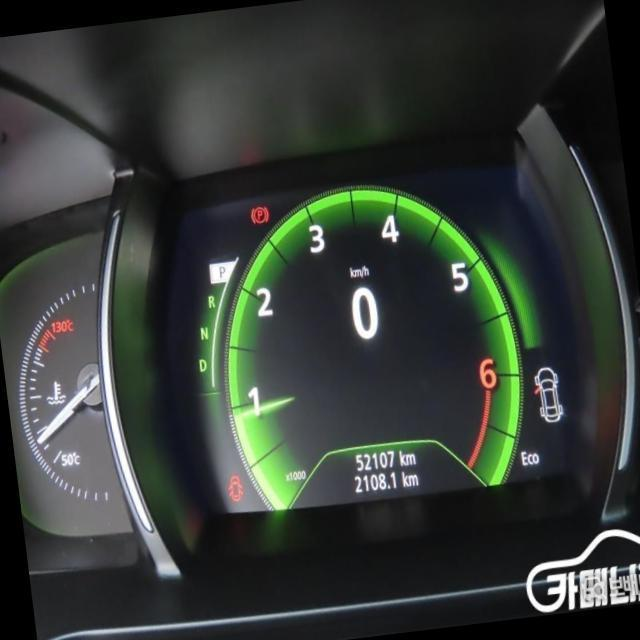Doors: (226, 472, 243, 502)
